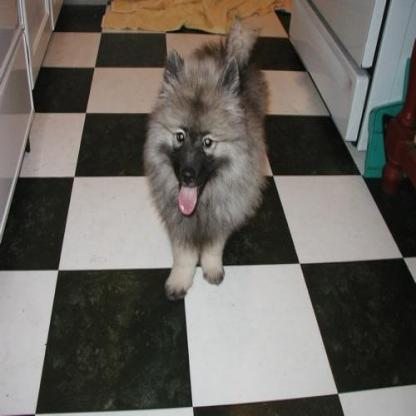keeshond: (143, 16, 269, 298)
